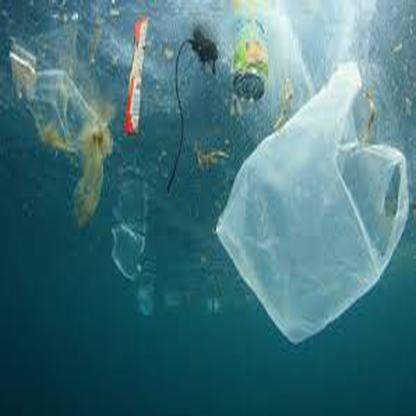can: (233, 16, 267, 98)
plastic bag: (214, 61, 409, 344), (11, 53, 109, 228)
